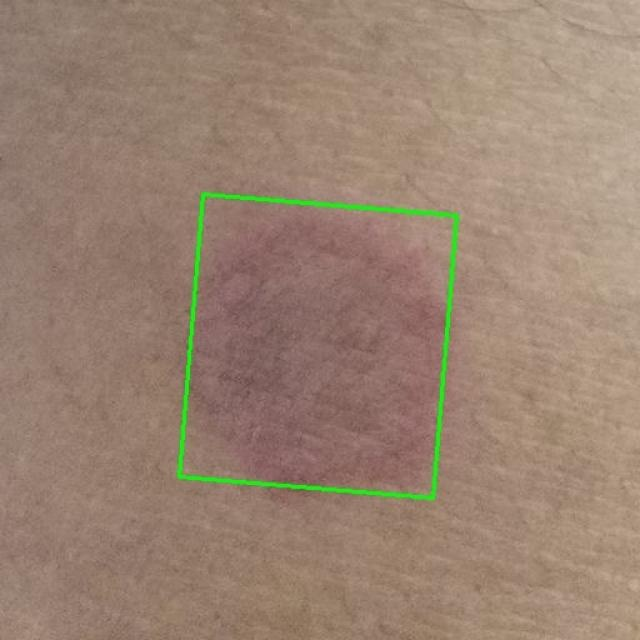Eczema: (179, 194, 457, 498)
